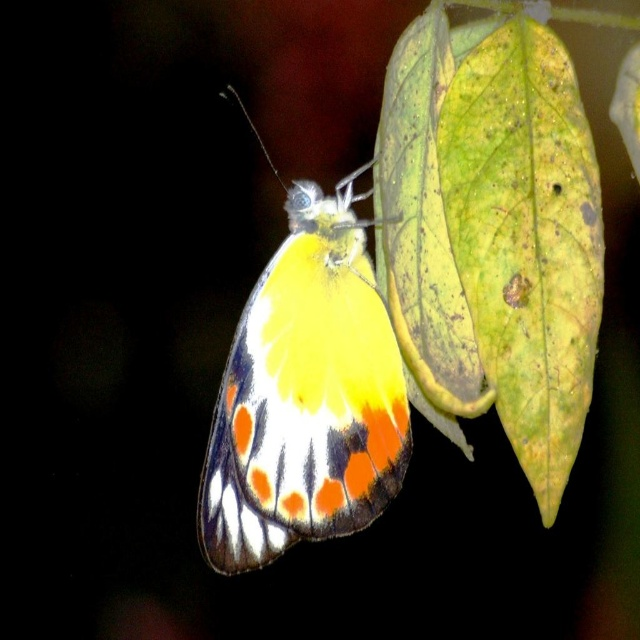Butterfly: (185, 28, 431, 562)
